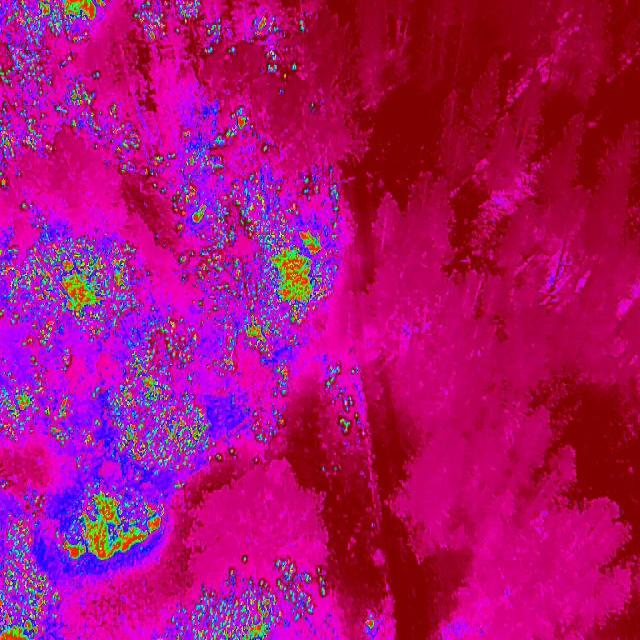fire: (235, 168, 347, 358), (80, 317, 210, 468), (0, 49, 143, 169), (0, 223, 139, 343), (148, 141, 236, 311), (168, 551, 330, 640), (55, 482, 165, 564), (0, 342, 78, 449), (245, 362, 306, 448), (0, 560, 60, 639), (322, 360, 377, 440), (0, 482, 53, 560), (0, 0, 105, 39), (248, 10, 302, 79), (123, 0, 199, 40), (210, 314, 238, 380), (206, 106, 252, 146), (203, 16, 224, 55), (211, 443, 239, 462), (304, 97, 328, 117), (363, 616, 378, 636), (0, 173, 10, 196), (172, 480, 186, 494)
